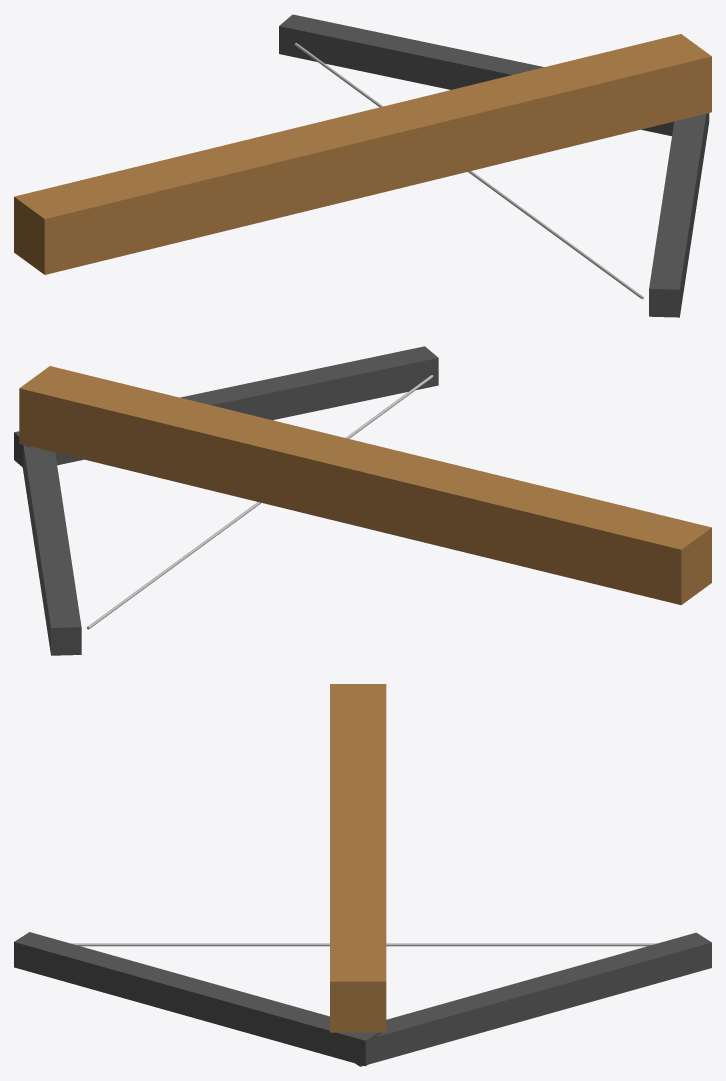
The model's file is crossbow.fbx.
3 views of the same model, one above another, from view 1: azimuth 30°, elevation 25°; view 2: azimuth 150°, elevation 25°; view 3: azimuth 270°, elevation 25° (orthographic). The views are drawn at different scales.
Visible parts, largest first — view 1: shaft, arcLeft, arcRight, string1; view 2: shaft, arcRight, arcLeft, string1; view 3: shaft, arcRight, arcLeft, string1.
Part boxes in pixels (x1,y1,x2,y2): shaft: (14, 34, 711, 274); arcLeft: (279, 14, 674, 136); arcRight: (649, 113, 709, 317); string1: (294, 43, 643, 299); shaft: (19, 366, 711, 605); arcRight: (14, 346, 438, 467); arcLeft: (22, 445, 81, 655); string1: (87, 375, 433, 629); shaft: (330, 684, 386, 1032); arcRight: (14, 932, 381, 1066); arcLeft: (355, 932, 711, 1066); string1: (70, 943, 657, 946).
Bounding box in the file's own units: 5.13 × 0.6281 × 4.96.
